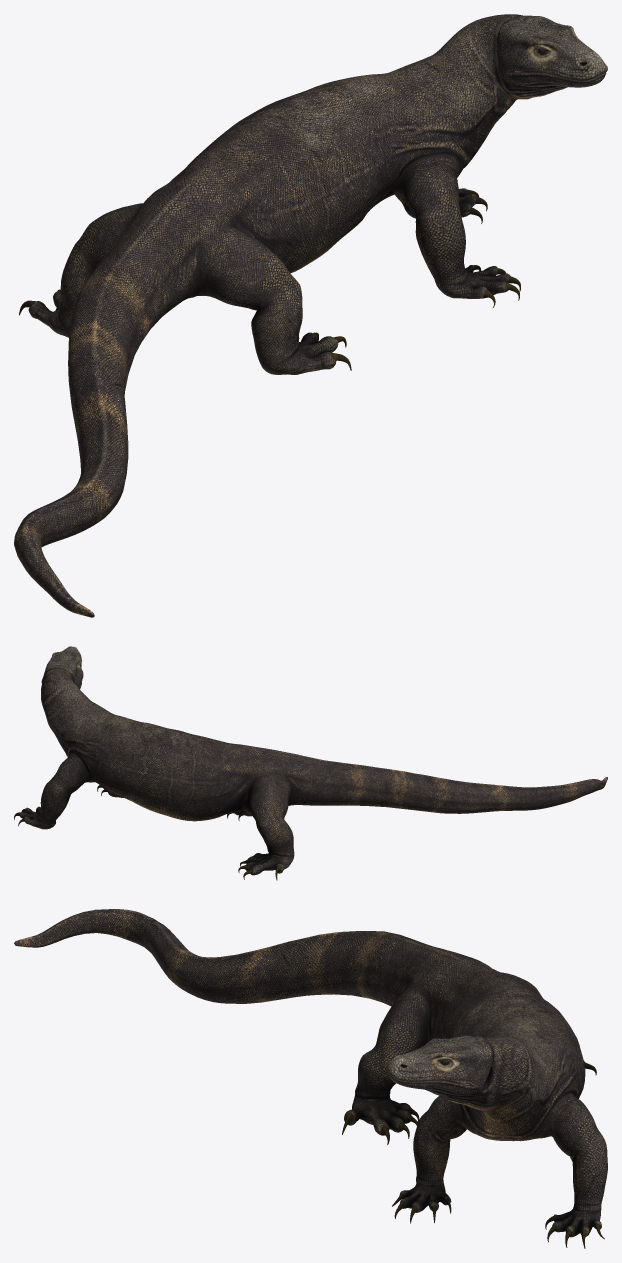
Rendered from komodo-dragon.glb.
3 renders of one model, top to bottom at view 1: azimuth 30°, elevation 25°; view 2: azimuth 150°, elevation 25°; view 3: azimuth 270°, elevation 25°, orthographic. The views are drawn at different scales.
Parts seen in each view (by area): view 1: node_id66_1; view 2: node_id66_1; view 3: node_id66_1.
Part boxes in pixels (bbox=[...]): node_id66_1: bbox=[14, 14, 607, 617]; node_id66_1: bbox=[14, 646, 607, 880]; node_id66_1: bbox=[14, 909, 607, 1248].
Size of the model in its own units: 0.512 by 0.1517 by 0.4052.
Materials: 1 (1 with a texture image).
